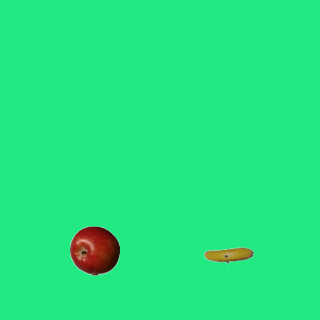Apple Braeburn: (69, 225, 119, 275)
Banana: (203, 230, 253, 280)
